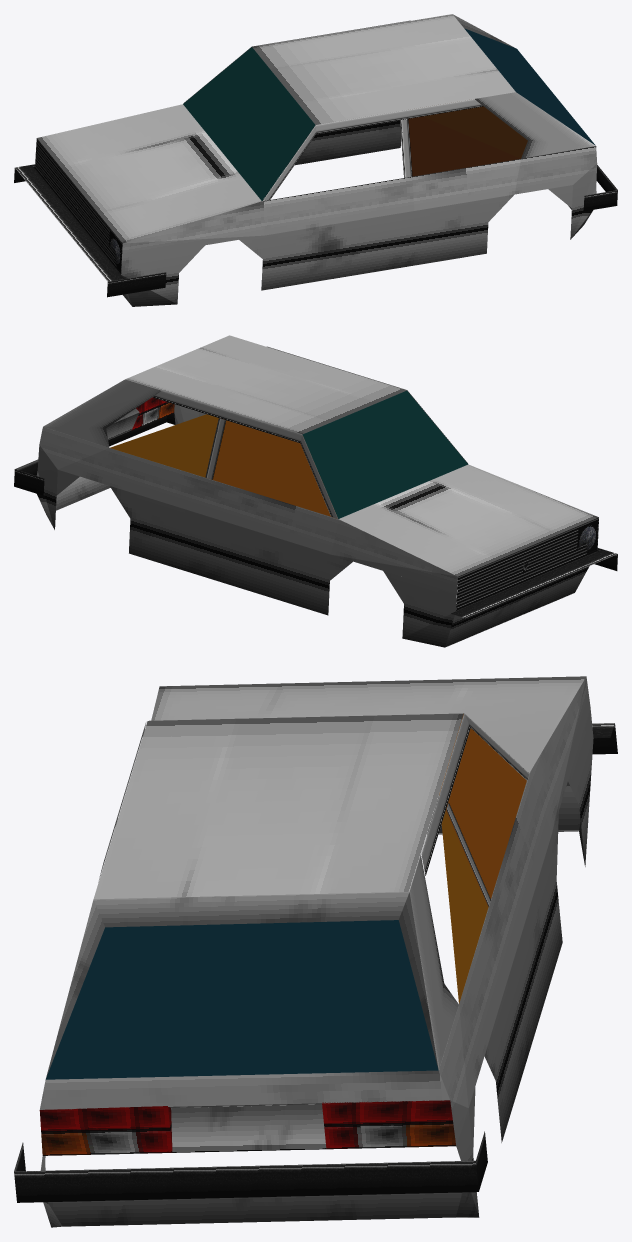
The model's file is primary_024.glb.
3 renders of one model, top to bottom at view 1: azimuth 30°, elevation 25°; view 2: azimuth 150°, elevation 25°; view 3: azimuth 270°, elevation 25°, orthographic. The views are drawn at different scales.
Visible parts, largest first — view 1: Object; view 2: Object; view 3: Object.
Boxes of the visible parts, bbox=[...] form: Object: bbox=[14, 14, 617, 306]; Object: bbox=[14, 335, 617, 647]; Object: bbox=[14, 676, 617, 1227].
Size of the model in its own units: 4.83 by 1.53 by 2.63.
40 materials, 40 textured.
